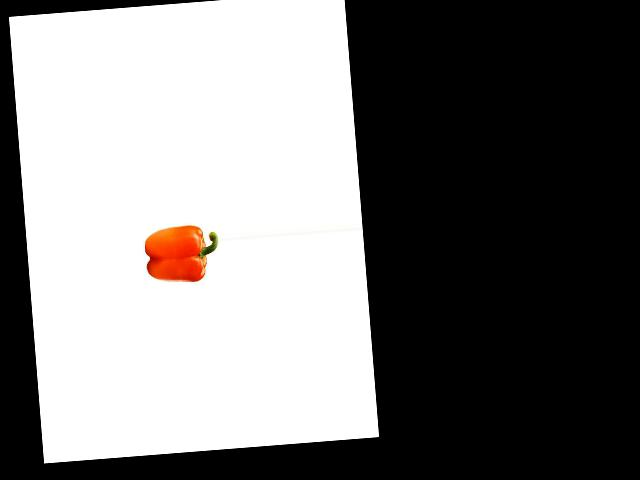bell_pepper: (142, 217, 221, 290)
